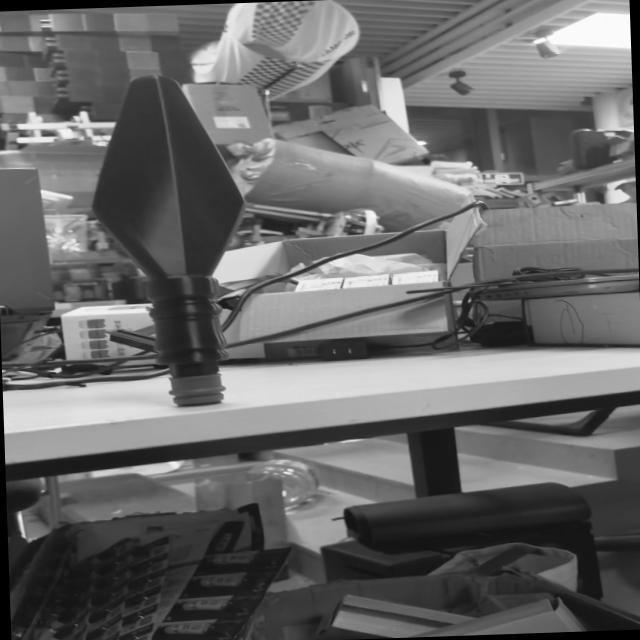base: (162, 371, 235, 412)
